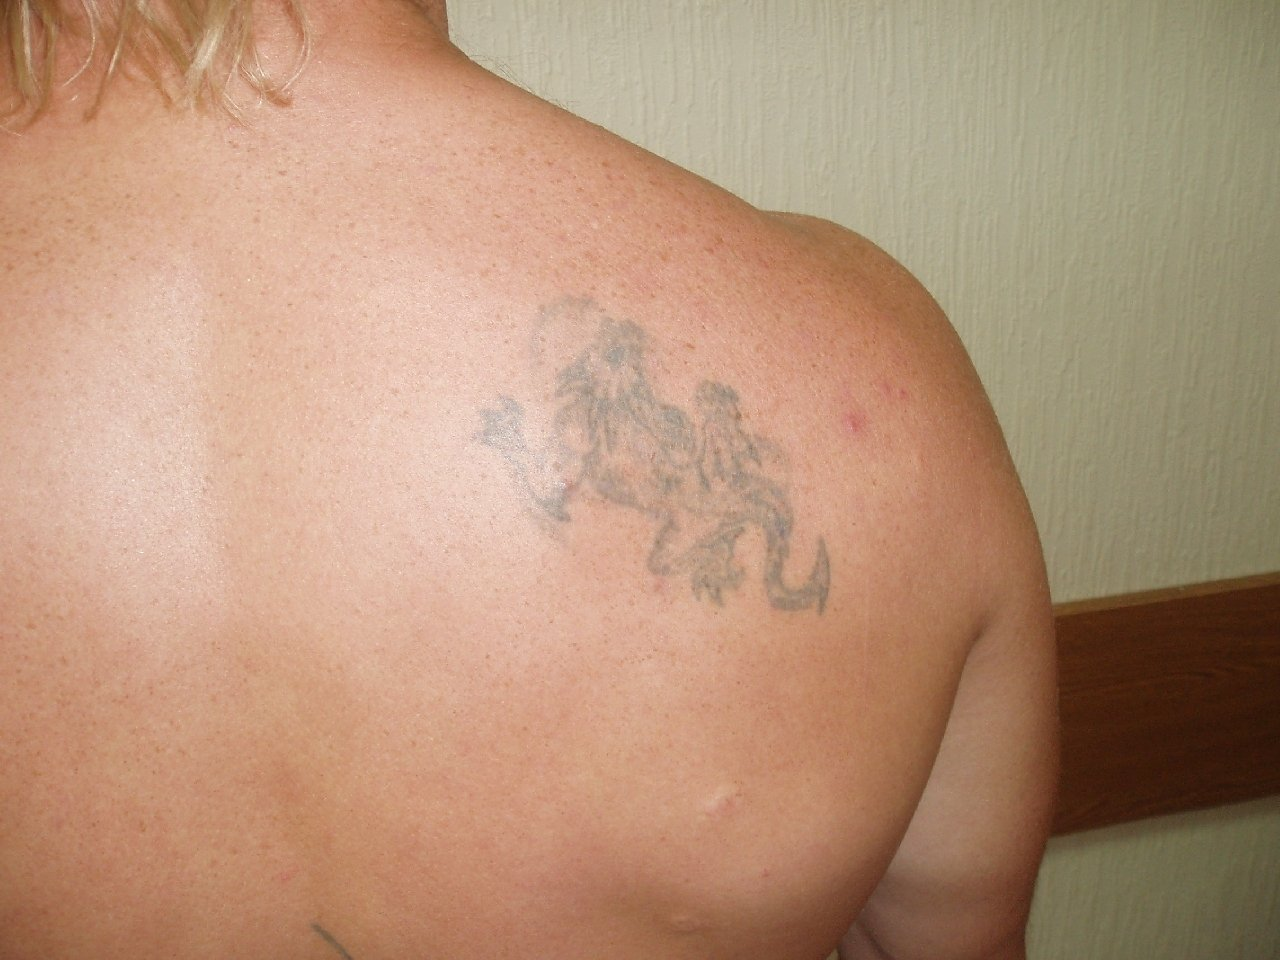tatu6_drakon: (485, 276, 866, 678)
